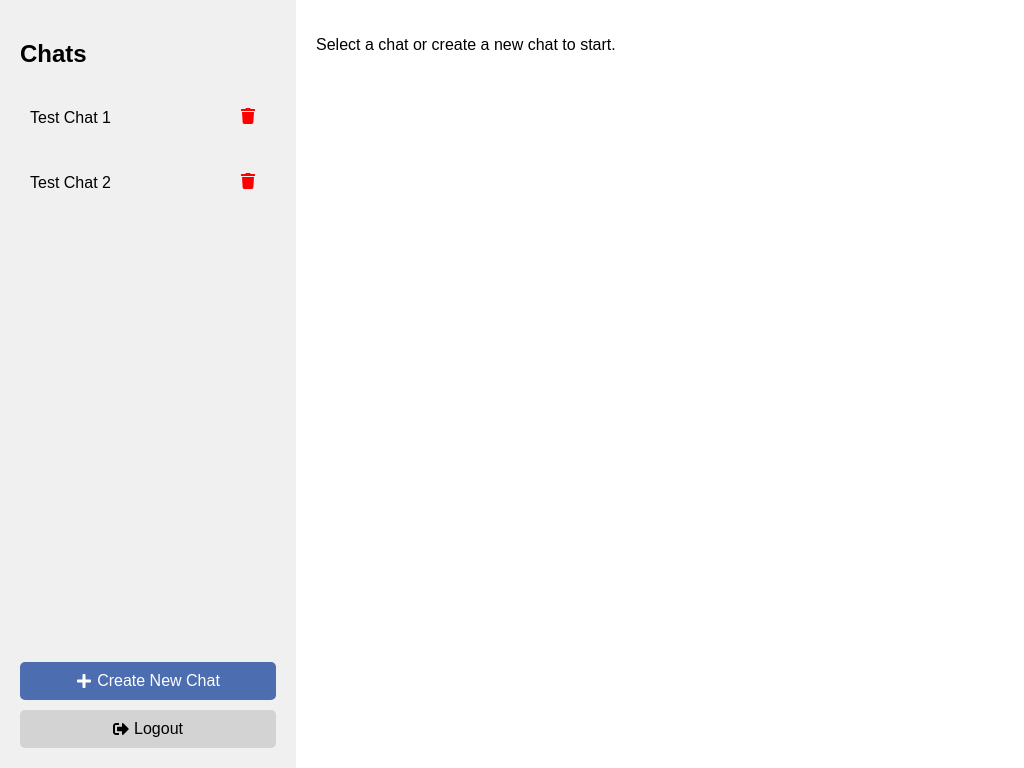
Scenario: MainPage Component › selects a chat
Click the text "Test Chat 1". click: (70, 117)
box: [30,109,111,126]
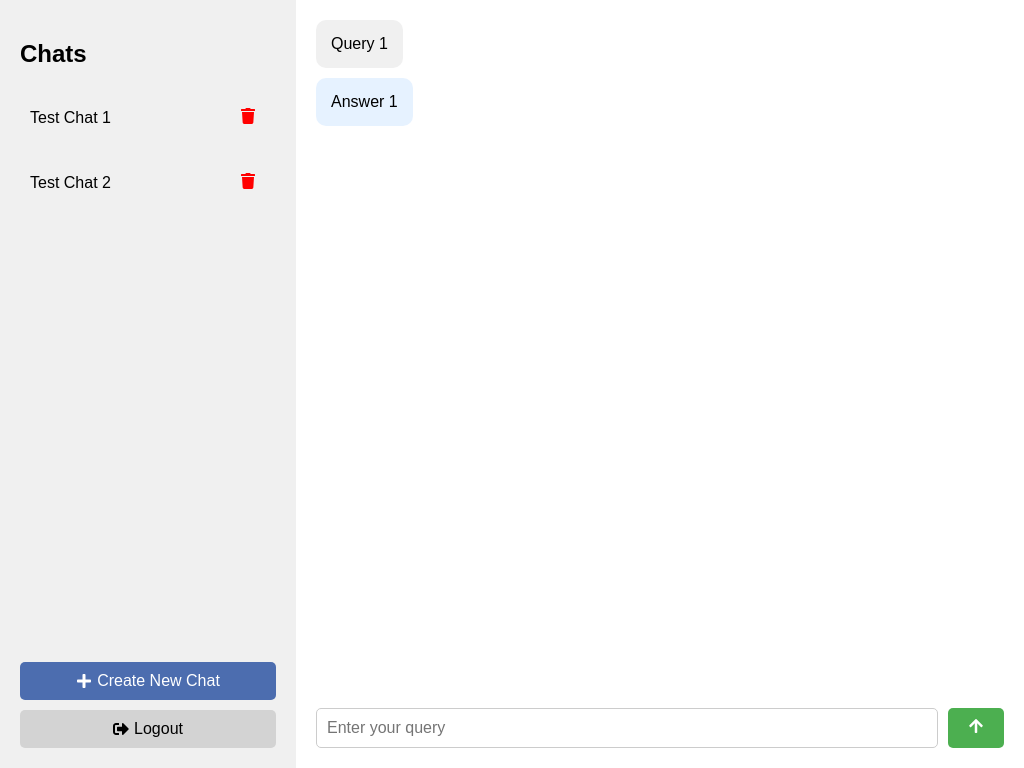
expect the text "Query 1" is shown: met, box [316,20,403,68]
expect the text "Answer 1" is shown: met, box [316,78,413,126]
